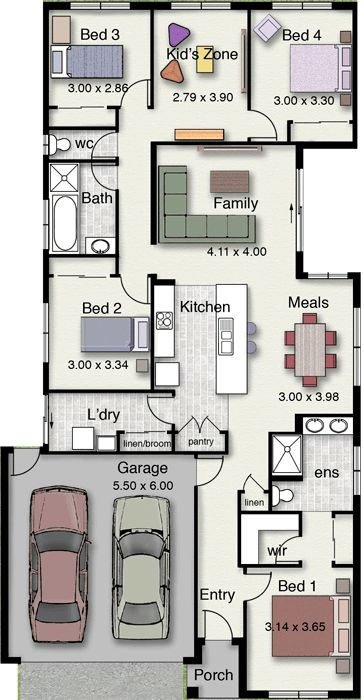door: (200, 607, 233, 636), (119, 75, 149, 106), (253, 109, 282, 140), (197, 456, 225, 487), (270, 534, 298, 565), (248, 570, 276, 601), (117, 278, 149, 305), (144, 395, 170, 426), (10, 455, 46, 477), (86, 131, 114, 159), (87, 164, 115, 192)
room: (150, 141, 303, 279), (239, 564, 362, 697), (247, 1, 357, 145), (43, 254, 153, 393), (150, 1, 251, 146), (43, 1, 154, 109), (43, 126, 118, 258)
window: (294, 168, 304, 252), (352, 307, 361, 386), (268, 689, 327, 700), (40, 302, 50, 363), (171, 1, 231, 11), (271, 1, 331, 10), (351, 445, 361, 496), (70, 1, 130, 9), (40, 198, 49, 249)
